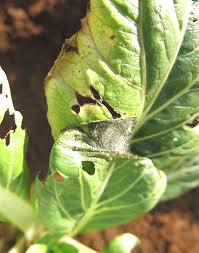Bok-Choy-Diseased: (45, 20, 199, 154), (36, 115, 169, 222)
